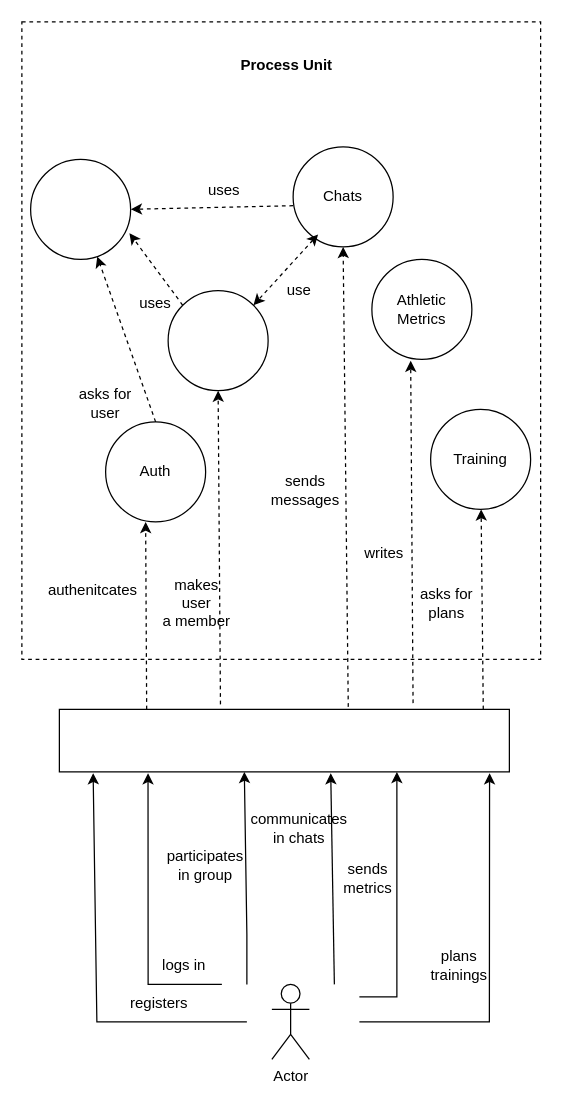
This 563x1108 diagram has some shape labels left out. The shapes that lost their labels are listed below. From the top down, each one's centre as x and y in pixels, then its label:
(80,208): Users
(217,340): Groups
(283,740): API Gateway
